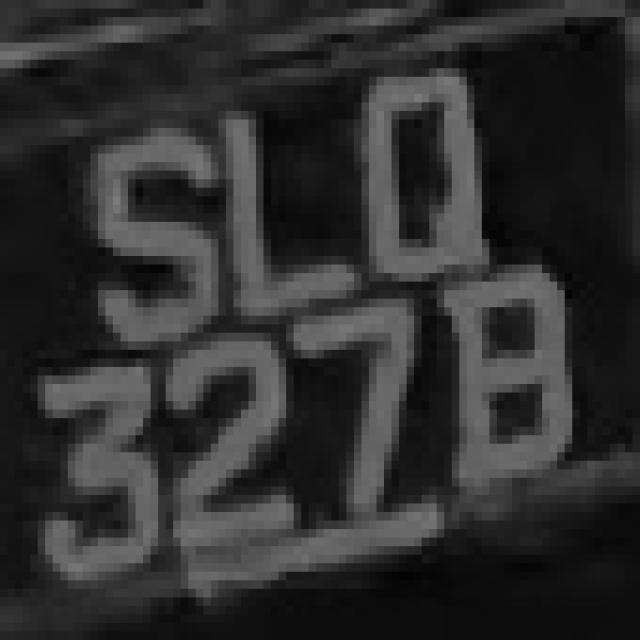2: (151, 307, 316, 580)
3: (22, 342, 166, 598)
7: (278, 282, 422, 529)
B: (436, 248, 580, 538)
L: (226, 94, 369, 333)
Q: (316, 59, 489, 298)
S: (68, 120, 226, 342)
